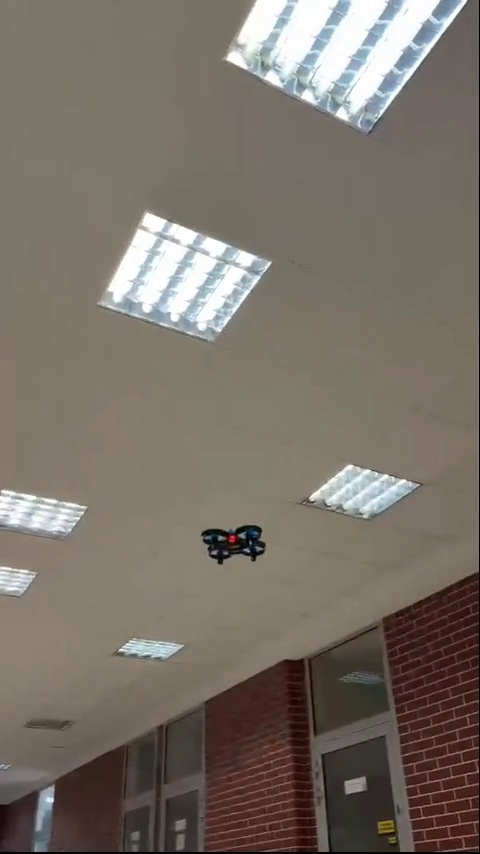drone: (200, 523, 267, 563)
